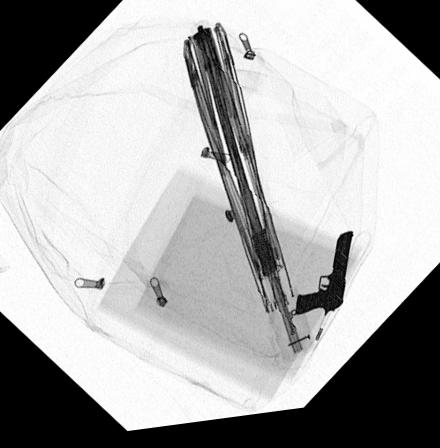Gun: (292, 242, 352, 325)
